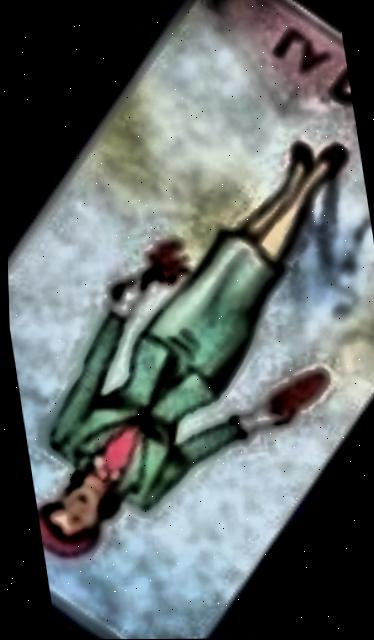La Dama: (6, 0, 374, 639)
